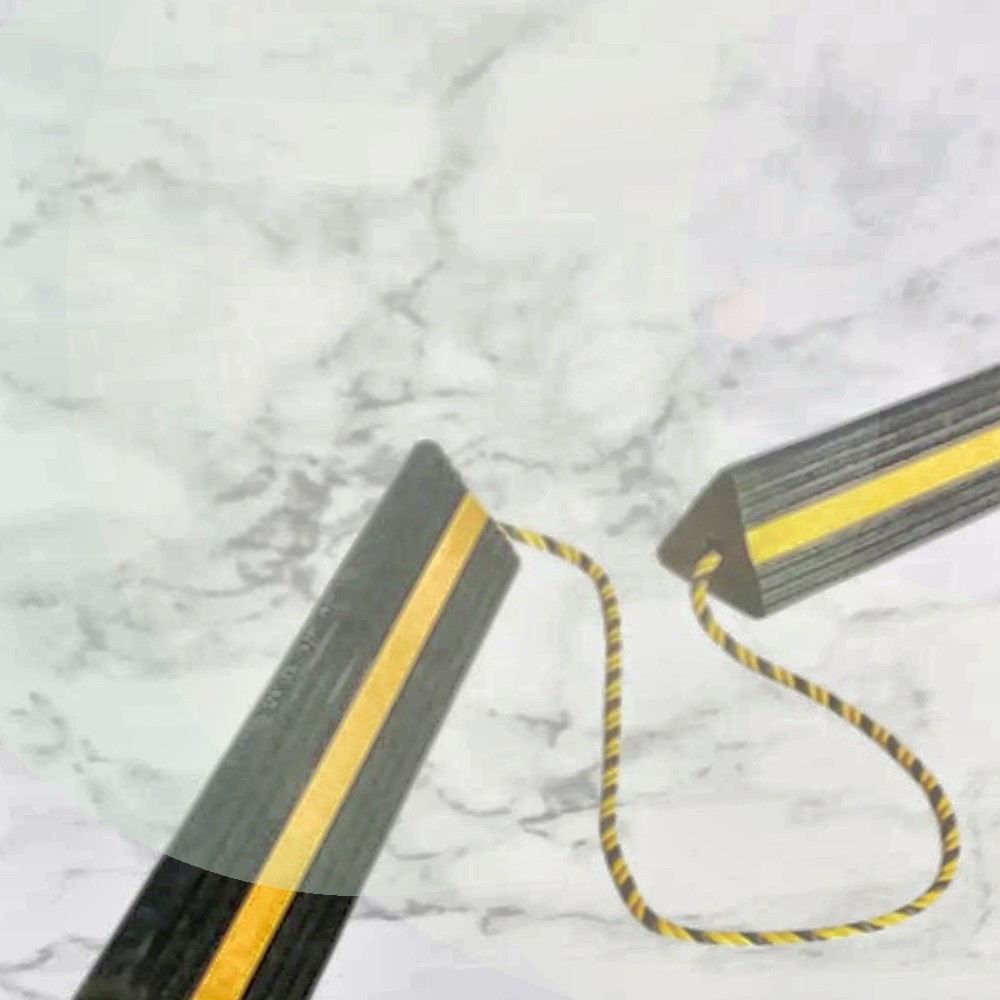chock: (0, 425, 539, 1000), (647, 272, 1000, 624)
